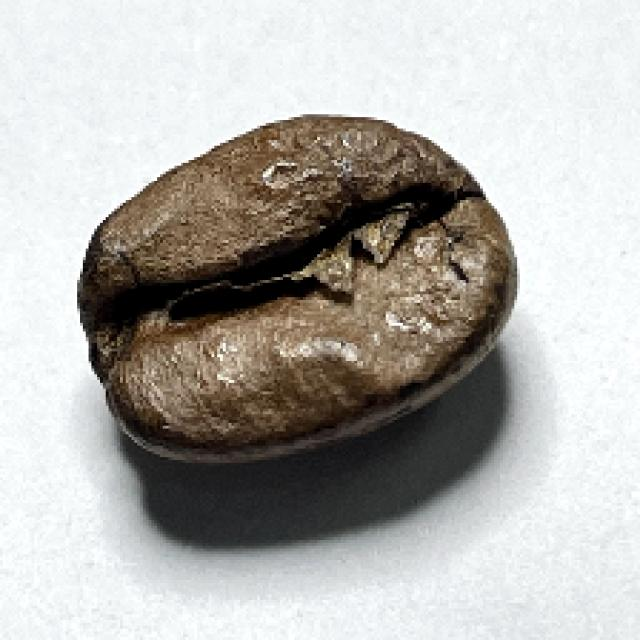bean: (76, 112, 516, 455)
